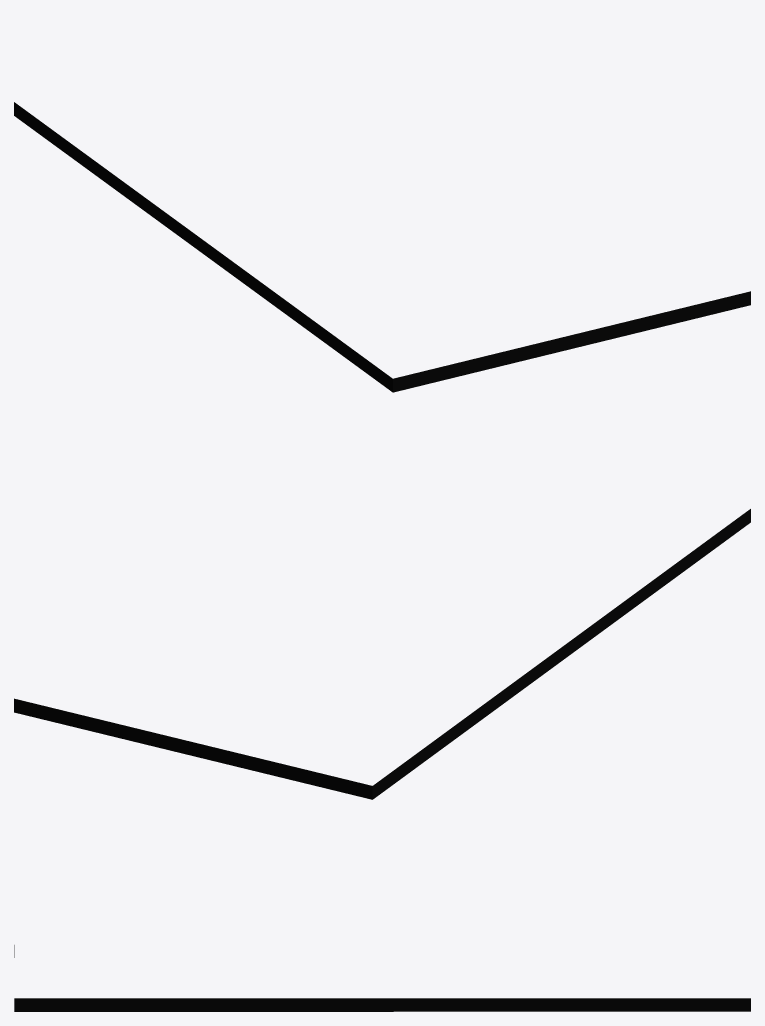
3 views of the same model, one above another, from view 1: azimuth 30°, elevation 25°; view 2: azimuth 150°, elevation 25°; view 3: azimuth 270°, elevation 25° (orthographic). The views are drawn at different scales.
Parts seen in each view (by area): view 1: Joint_0_Object_0; view 2: Joint_0_Object_0; view 3: Joint_0_Object_0.
Boxes of the visible parts, <box> form: Joint_0_Object_0: <box>14,102,750,392</box>; Joint_0_Object_0: <box>14,509,750,799</box>; Joint_0_Object_0: <box>14,945,750,1011</box>.
Bounding box in the file's own units: 1340 × 49.67 × 2451.
Materials: 1 (1 with a texture image).
